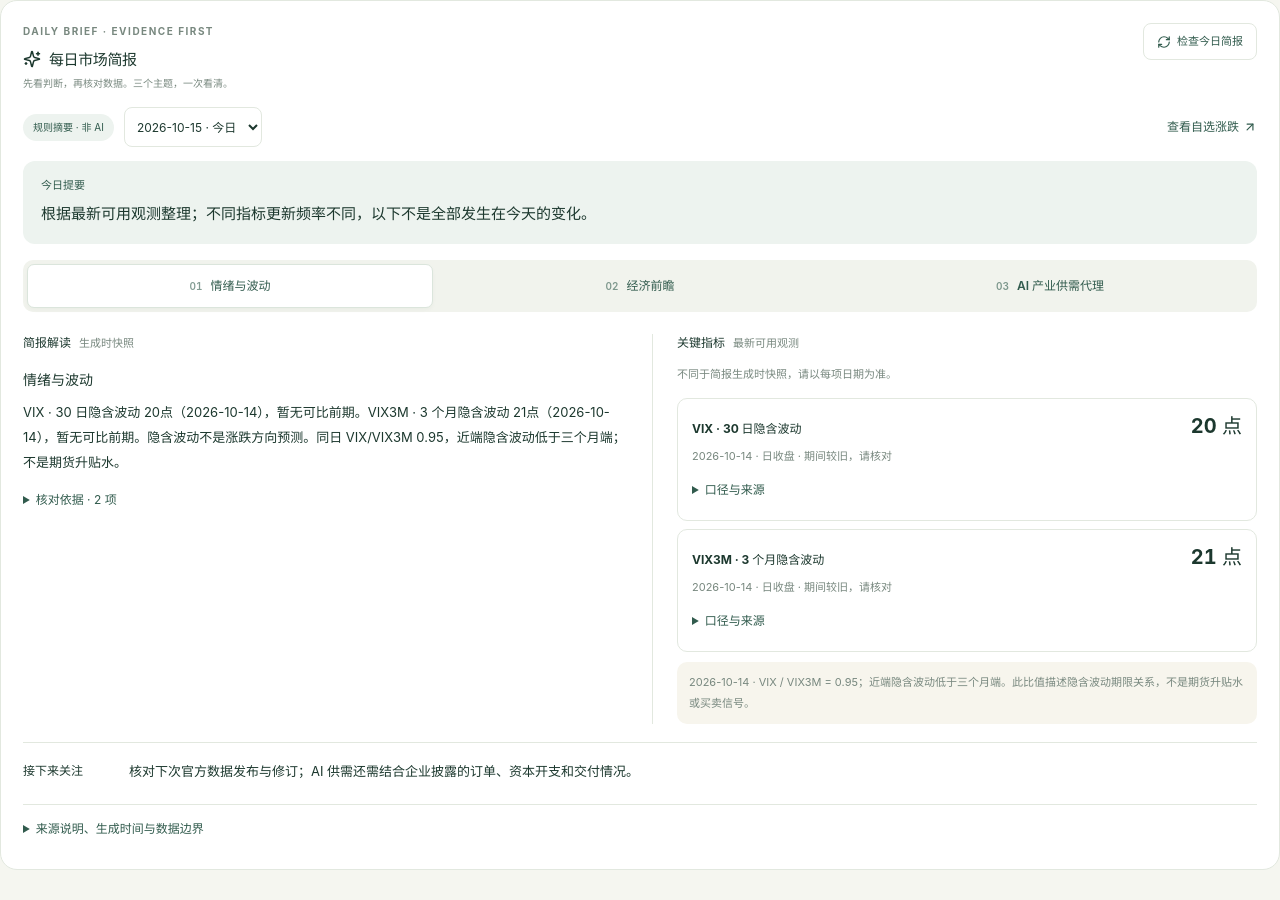
Test: 今日缺失时自动请求一次，显示真实降级身份，历史切换不付费
Expected: the text "规则摘要 · 非 AI" is shown, [23,114,114,141]
Select "2026-10-14 · 历史" in the dropdown named "查看历史市场简报" at (193, 127), box [124,107,262,147]
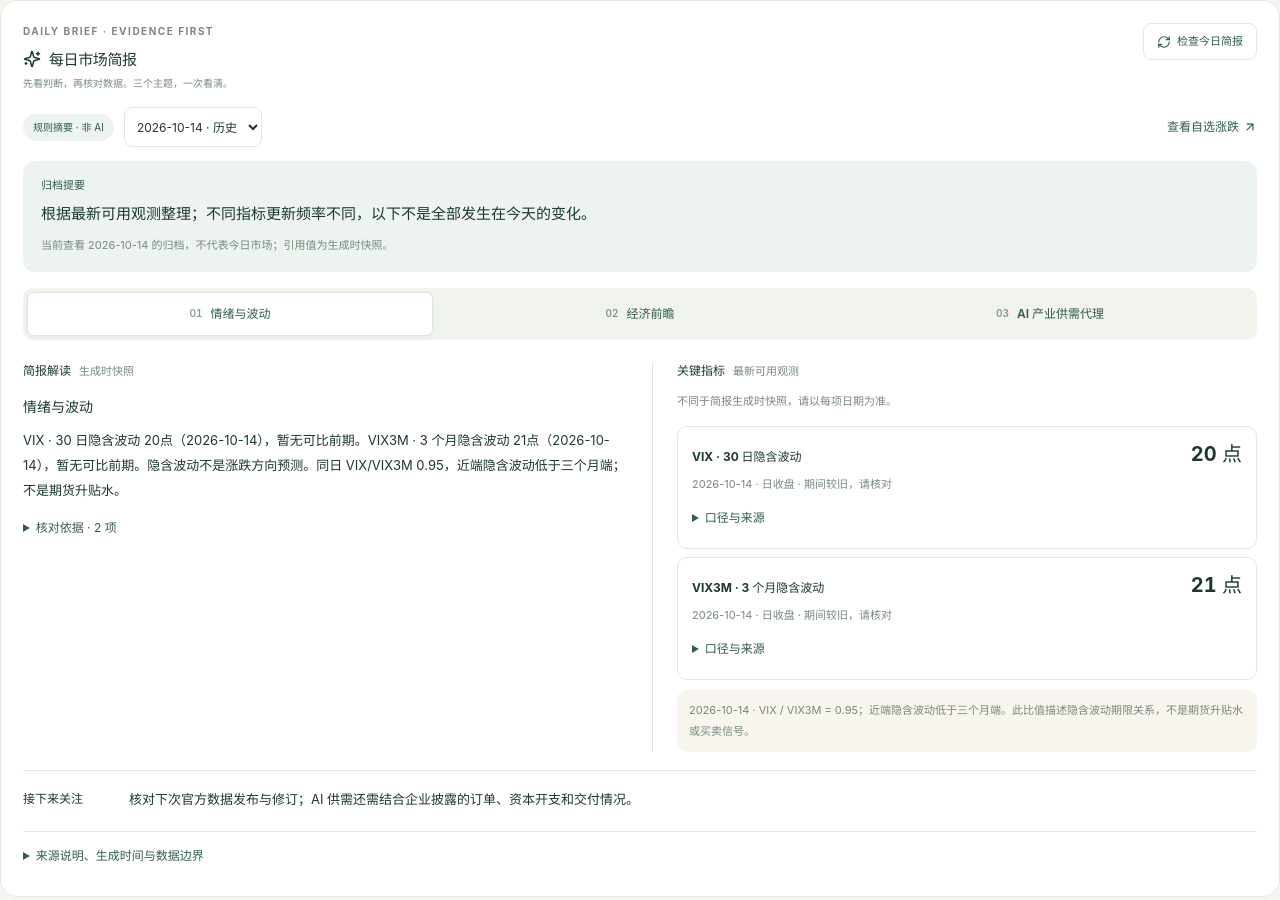
Expected: the text "当前查看 2026-10-14 的归档，不代表今日市场；引用值为生成时快照。" is shown, [41,238,394,252]
